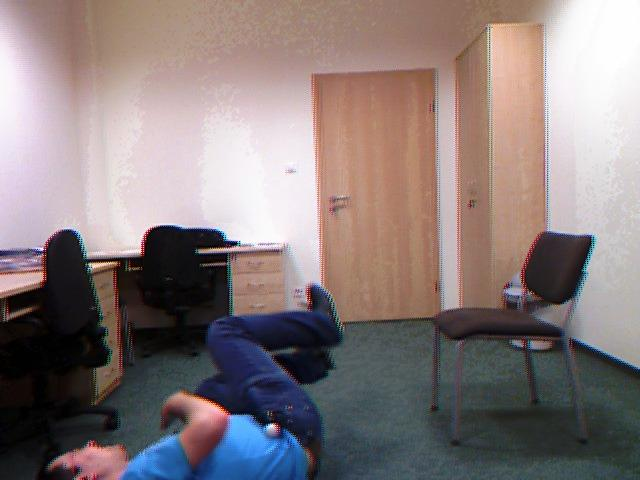fall: (27, 265, 364, 480)
